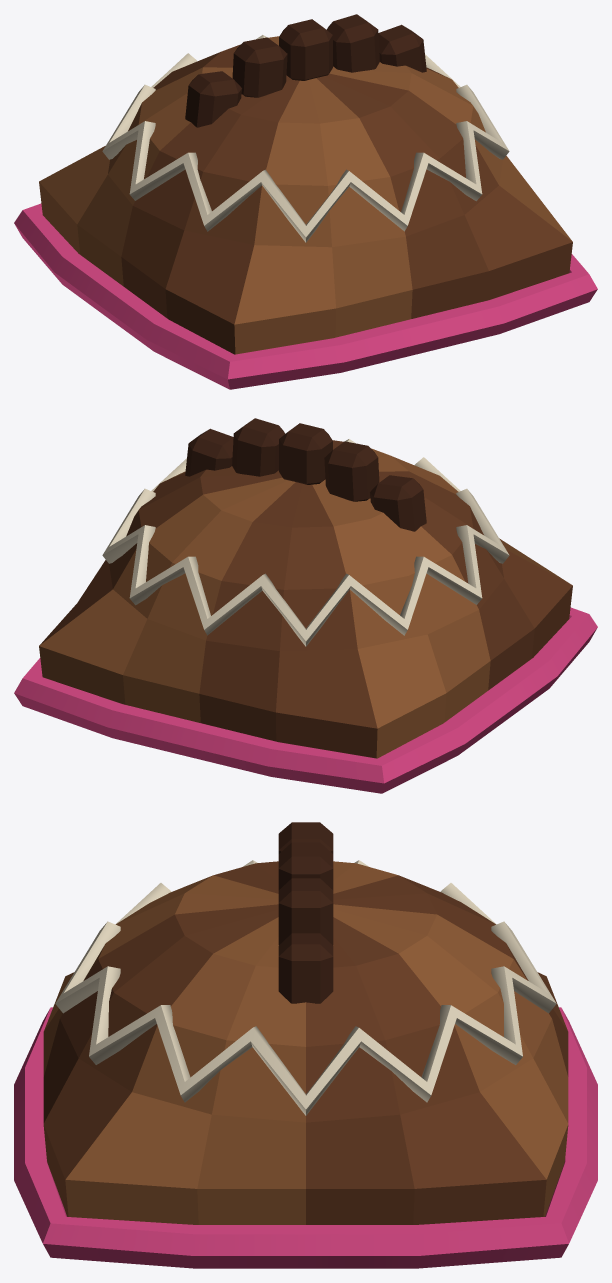
File: choco_helmet.glb
The picture shows the model from 3 angles, top to bottom: view 1: azimuth 30°, elevation 25°; view 2: azimuth 150°, elevation 25°; view 3: azimuth 270°, elevation 25°; orthographic projection. The views are drawn at different scales.
Visible parts, largest first — view 1: choco_helmet; view 2: choco_helmet; view 3: choco_helmet.
Boxes of the visible parts, x1=… form: choco_helmet: x1=14, y1=14, x2=597, y2=389; choco_helmet: x1=14, y1=418, x2=597, y2=793; choco_helmet: x1=14, y1=822, x2=597, y2=1268.
Bounding box in the file's own units: 0.534 × 0.3028 × 0.534.
